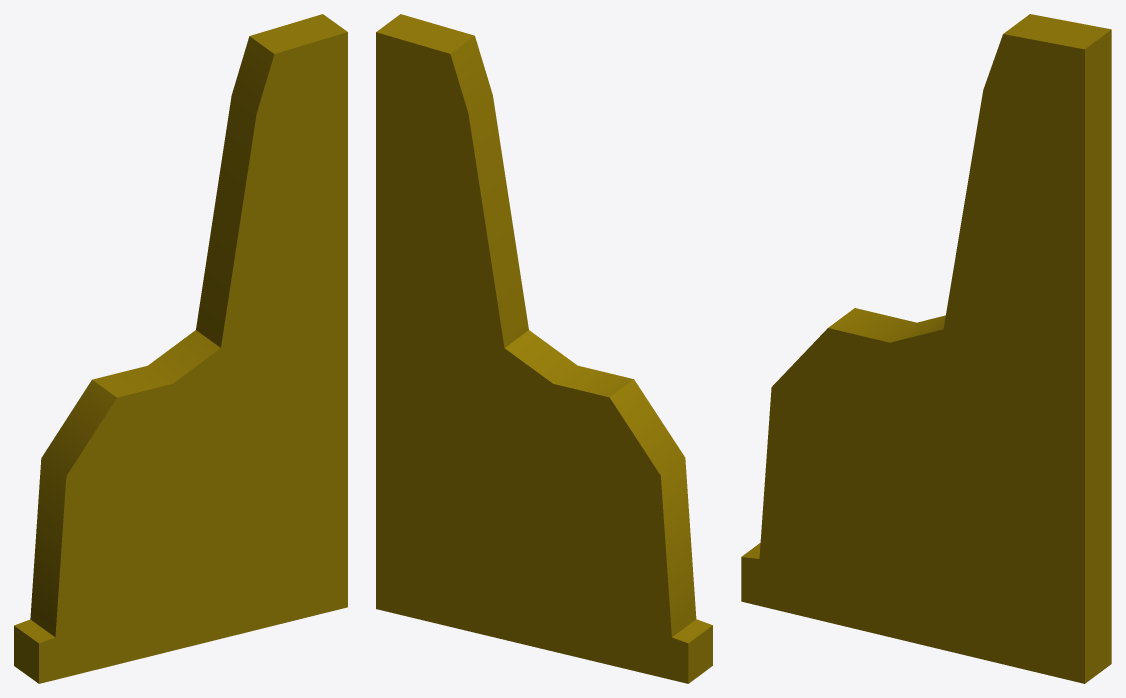
File: SM_Debris_mur1.fbx
3 renders of one model, left to right at view 1: azimuth 30°, elevation 25°; view 2: azimuth 150°, elevation 25°; view 3: azimuth 330°, elevation 25°, orthographic. The views are drawn at different scales.
Visible parts, largest first — view 1: Debris_mur1; view 2: Debris_mur1; view 3: Debris_mur1.
Part boxes in pixels (x1,y1,x2,y2): Debris_mur1: (14,14,347,683); Debris_mur1: (376,14,712,683); Debris_mur1: (741,14,1111,683).
Bounding box in the file's own units: 104 × 184 × 15.11.
